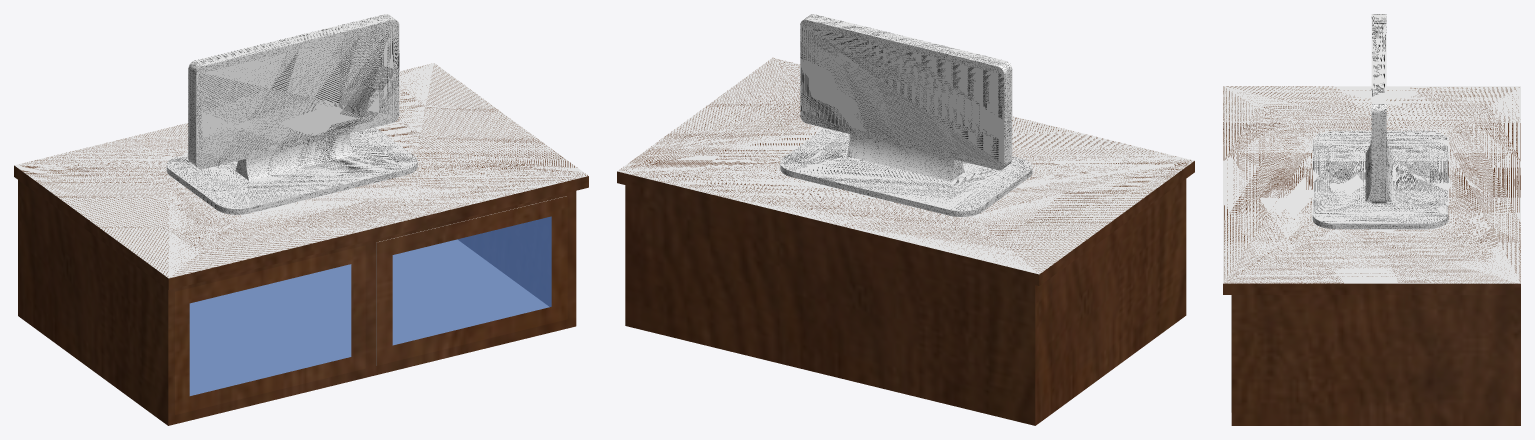
The model's file is tvstand.dae.
3 views of the same model, side by side, from view 1: azimuth 30°, elevation 25°; view 2: azimuth 150°, elevation 25°; view 3: azimuth 270°, elevation 25° (orthographic). The views are drawn at different scales.
Visible parts, largest first — view 1: SketchUp (×9); view 2: SketchUp (×3); view 3: SketchUp (×3).
Boxes of the visible parts, left/top/right/bottom form: SketchUp (×9): left=14, top=14, right=588, bottom=425; SketchUp (×3): left=617, top=14, right=1194, bottom=425; SketchUp (×3): left=1223, top=14, right=1520, bottom=425.
Size of the model in its own units: 40.91 by 26.08 by 26.09.
6 materials, 2 textured.
